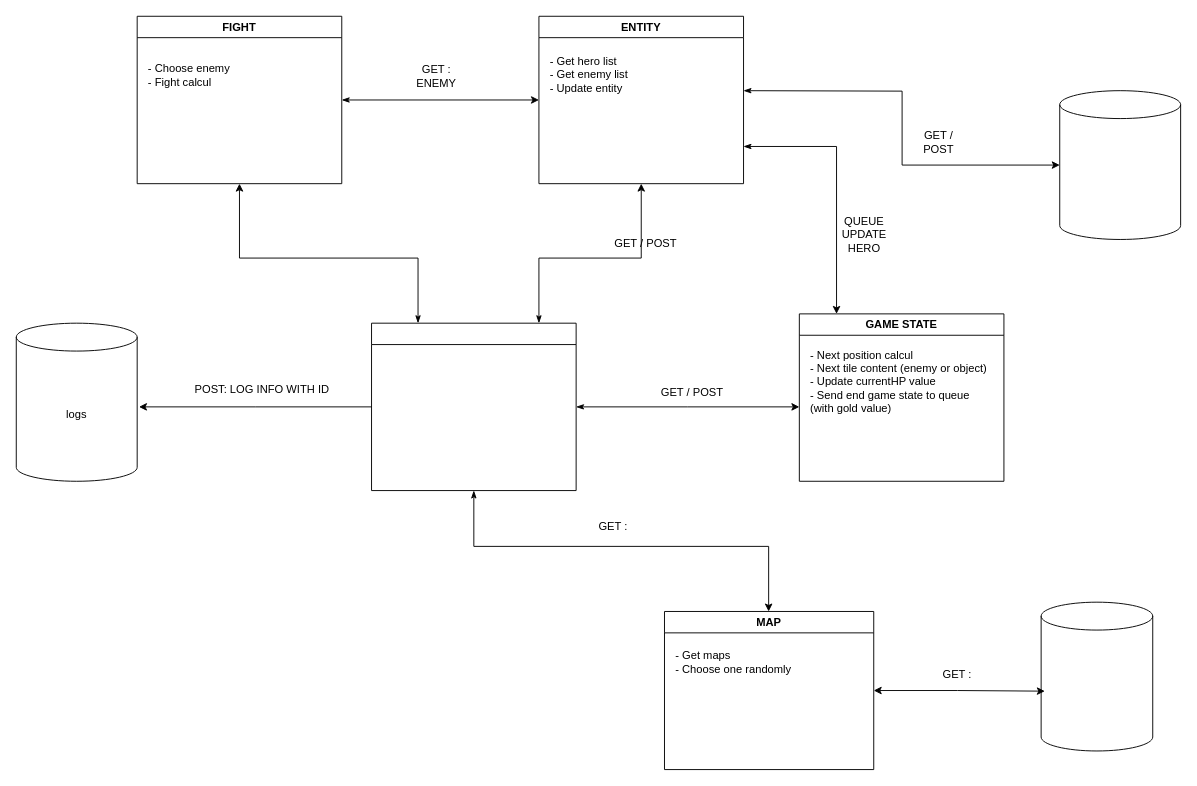
This 1197x786 diagram has some shape labels left out. The centre of each missing label's shape, as x and y in pixels:
"FRONTEND" belongs at pixel 473 406.
"mapMatrix ID" belongs at pixel 1096 676.
"Name type level dunjonNb ID maxHP gold ATK" belongs at pixel 1120 164.
